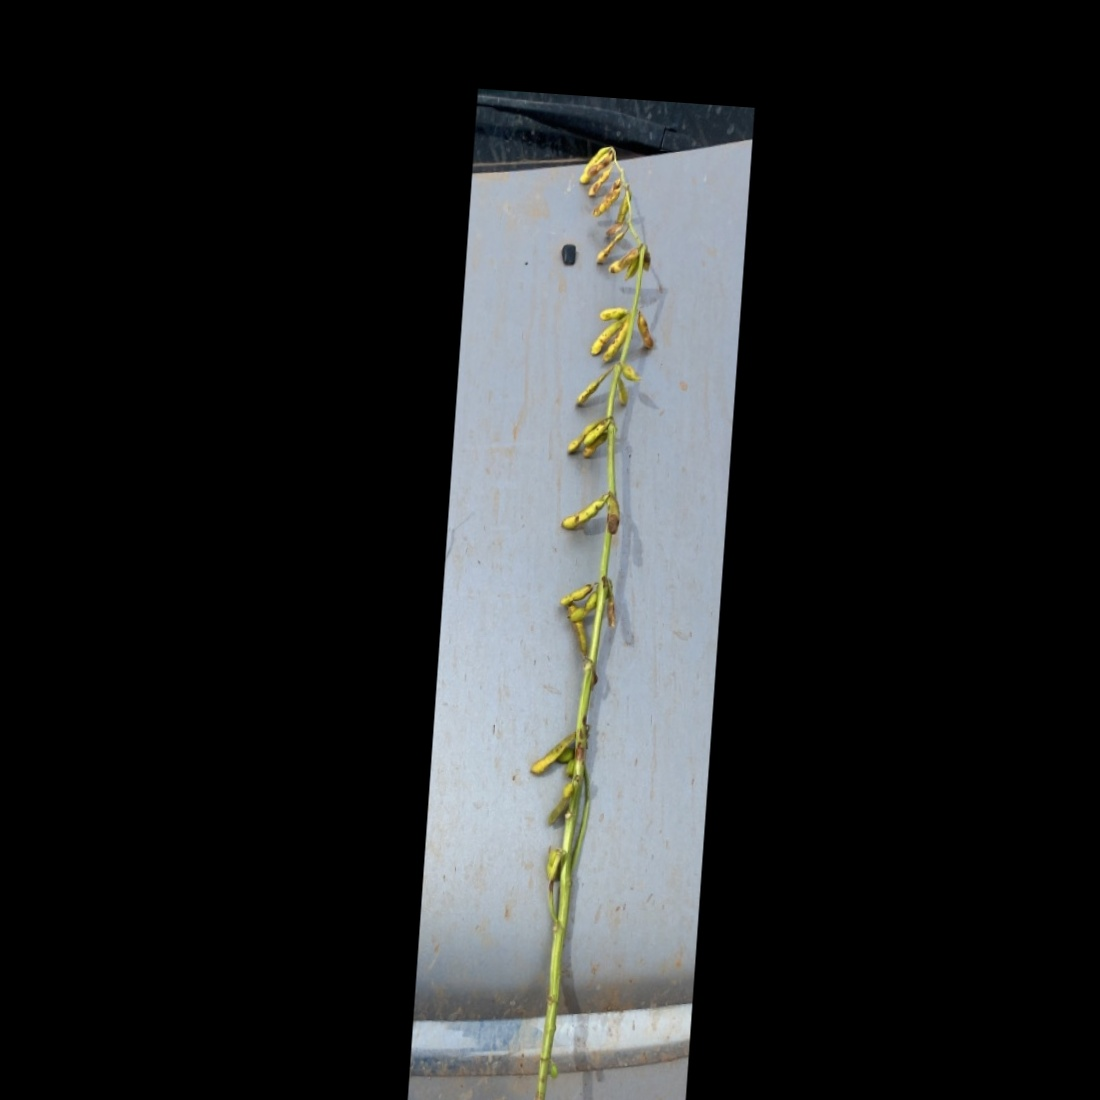pod: (556, 489, 610, 537), (560, 417, 612, 462), (566, 365, 613, 410), (598, 317, 634, 370), (588, 310, 623, 360), (594, 227, 629, 269), (607, 242, 644, 277), (583, 164, 614, 203), (633, 308, 659, 352), (578, 419, 612, 450), (611, 188, 631, 234), (592, 302, 629, 319), (613, 377, 633, 409)
soy: (478, 126, 688, 1100)
